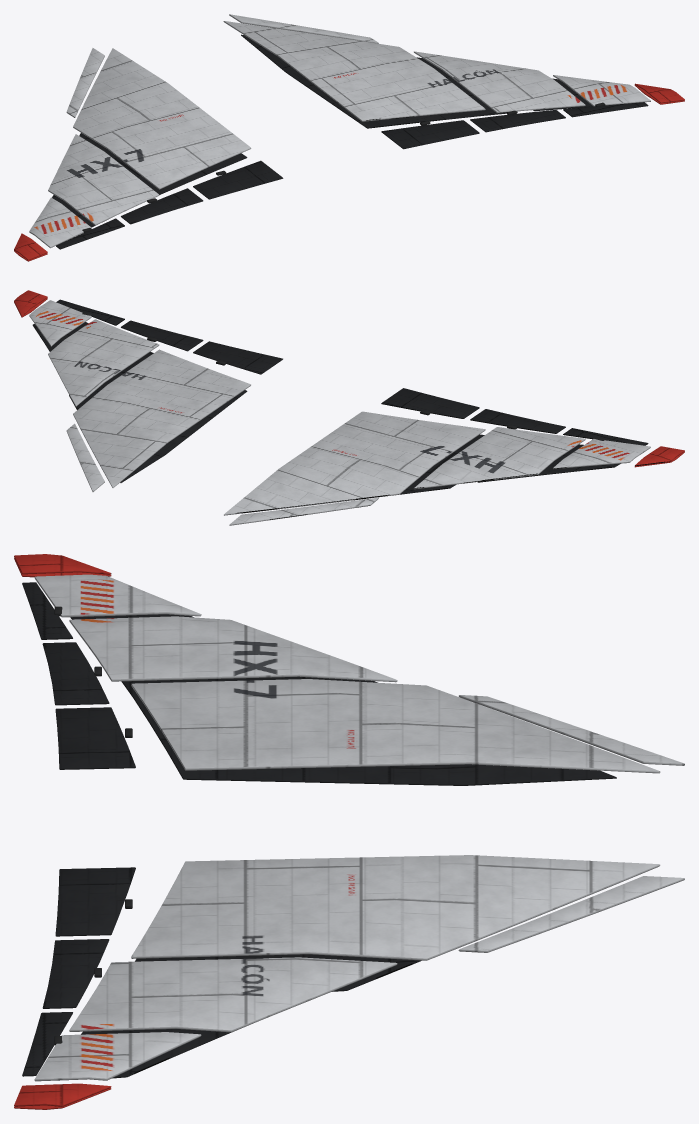
Rendered from Alas2.fbx.
3 views of the same model, one above another, from view 1: azimuth 30°, elevation 25°; view 2: azimuth 150°, elevation 25°; view 3: azimuth 270°, elevation 25° (orthographic). The views are drawn at different scales.
Visible parts, largest first — view 1: Alas2; view 2: Alas2; view 3: Alas2.
Part boxes in pixels (<box>): Alas2: <box>14,14,684,261</box>; Alas2: <box>14,290,684,525</box>; Alas2: <box>14,554,684,1109</box>.
Bounding box in the file's own units: 2712 × 65.77 × 1398.
